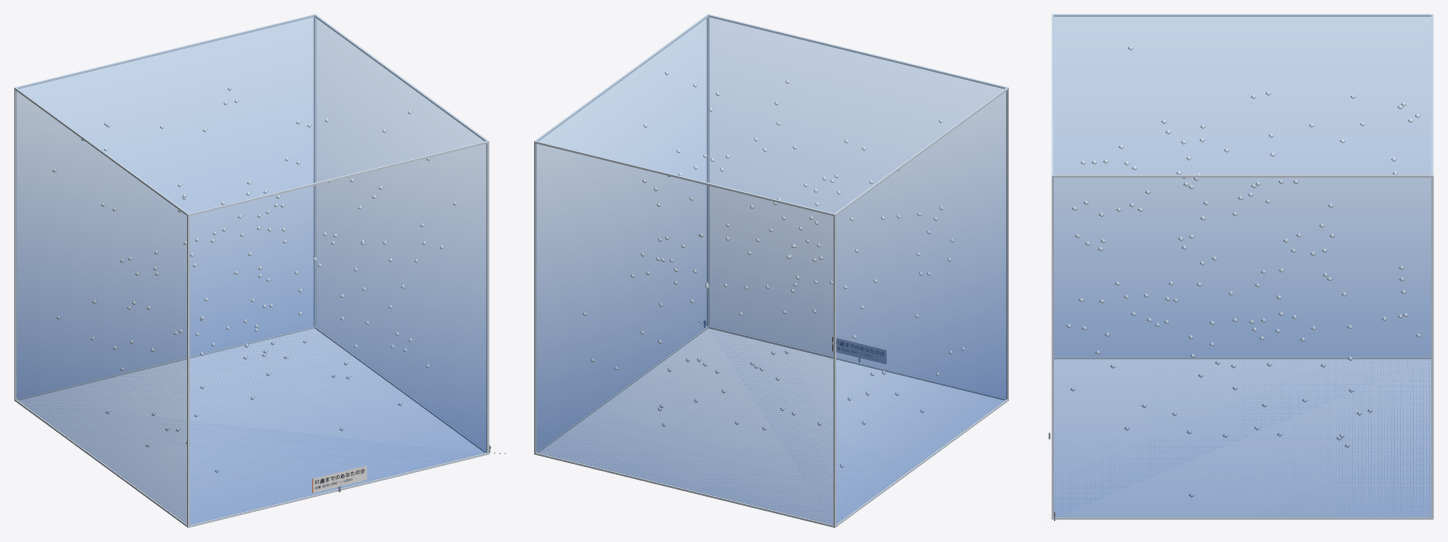
The model's file is cube_life_61.glb.
The picture shows the model from 3 angles, left to right: view 1: azimuth 30°, elevation 25°; view 2: azimuth 150°, elevation 25°; view 3: azimuth 270°, elevation 25°; orthographic projection. The views are drawn at different scales.
Parts seen in each view (by area): view 1: co2, edge, dots, label; view 2: co2, edge, dots, label; view 3: co2, edge, dots.
Part boxes in pixels (box(x1,y1,x2,y2)): co2: box(16, 15, 486, 524); edge: box(14, 14, 489, 527); dots: box(52, 86, 457, 472); label: box(312, 465, 366, 492); co2: box(536, 15, 1006, 524); edge: box(534, 14, 1008, 527); dots: box(582, 71, 965, 467); label: box(832, 337, 886, 363); co2: box(1053, 14, 1432, 516); edge: box(1051, 14, 1433, 519); dots: box(1066, 45, 1421, 497).
Size of the model in its own units: 69.34 by 65.58 by 68.44.
8 materials, 3 textured.
